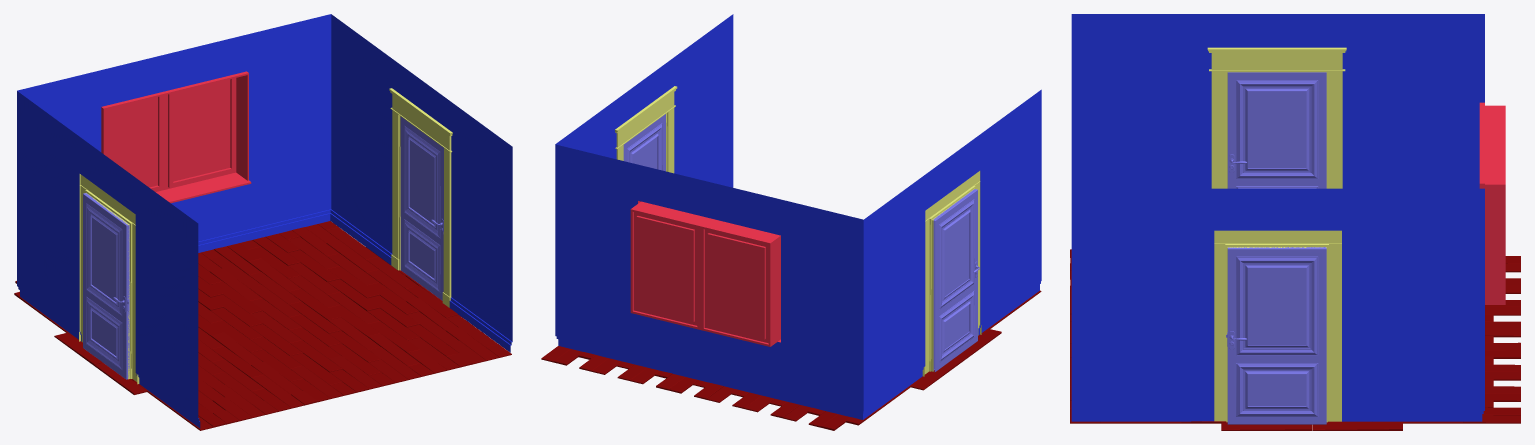
Rendered from SM_Room.fbx.
3 renders of one model, left to right at view 1: azimuth 30°, elevation 25°; view 2: azimuth 150°, elevation 25°; view 3: azimuth 270°, elevation 25°, orthographic. The views are drawn at different scales.
Parts seen in each view (by area): view 1: Plane001, Plane002, Door_Frame, Object002, Object001; view 2: Plane001, Door_Frame, Object002, Object001, Plane002; view 3: Plane001, Door_Frame, Plane002, Object001.
Part boxes in pixels (bbox=[...]): Plane001: bbox=[17, 14, 512, 428]; Plane002: bbox=[14, 221, 511, 430]; Door_Frame: bbox=[79, 88, 452, 384]; Object002: bbox=[105, 79, 230, 187]; Object001: bbox=[101, 71, 251, 203]; Plane001: bbox=[555, 14, 1041, 419]; Door_Frame: bbox=[615, 86, 981, 376]; Object002: bbox=[636, 216, 764, 339]; Object001: bbox=[630, 201, 780, 346]; Plane002: bbox=[541, 290, 1041, 430]; Plane001: bbox=[1071, 14, 1484, 421]; Door_Frame: bbox=[1207, 47, 1346, 424]; Plane002: bbox=[1070, 249, 1520, 430]; Object001: bbox=[1479, 102, 1505, 304].
Bounding box in the file's own units: 169 × 99.21 × 172.
